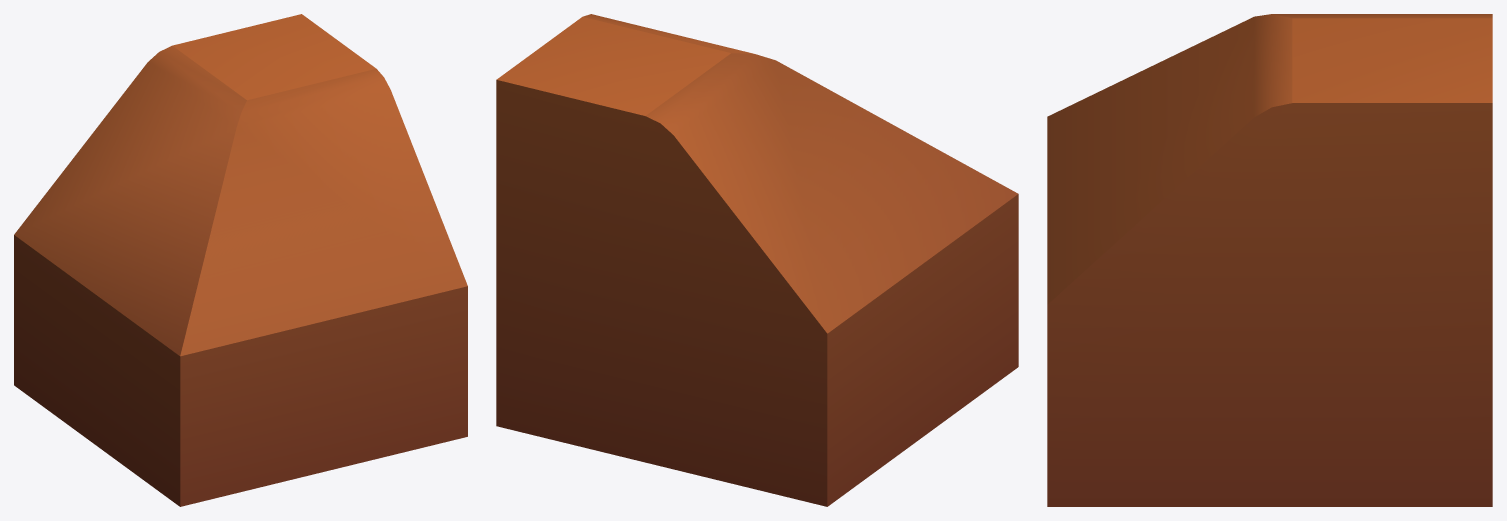
Rendered from space-terrain-slope-outer-corner.glb.
3 renders of one model, left to right at view 1: azimuth 30°, elevation 25°; view 2: azimuth 150°, elevation 25°; view 3: azimuth 270°, elevation 25°, orthographic. The views are drawn at different scales.
Visible parts, largest first — view 1: terrain_slope_outer_corner; view 2: terrain_slope_outer_corner; view 3: terrain_slope_outer_corner.
Boxes of the visible parts, x1,y1,x2,y2 form: terrain_slope_outer_corner: (14,14,467,506); terrain_slope_outer_corner: (496,14,1018,506); terrain_slope_outer_corner: (1047,14,1492,506).
Bounding box in the file's own units: 2 × 2 × 2.
